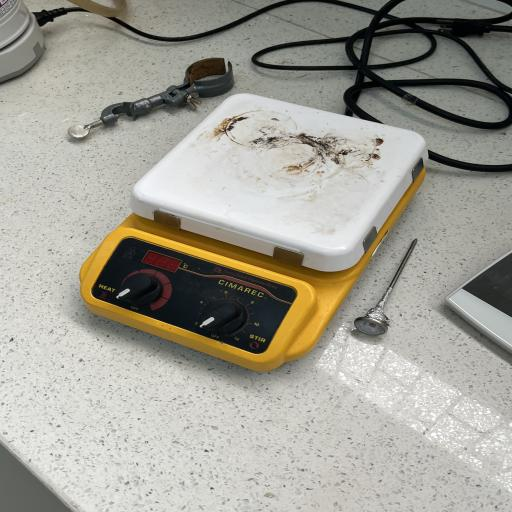Plancha_Agitacion_Cimarec: (70, 88, 430, 381)
